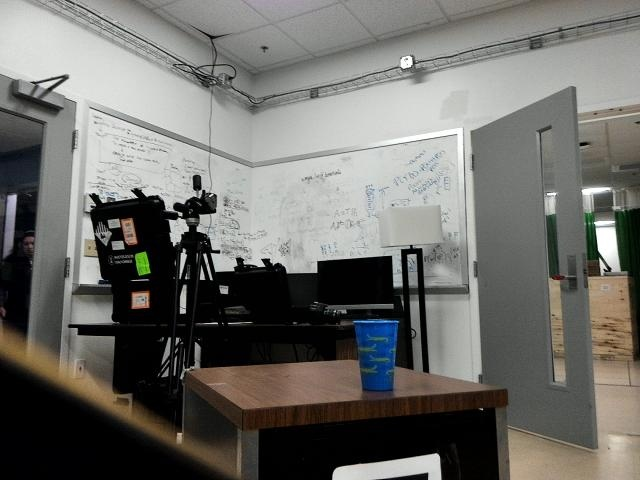water_cup: (352, 318, 402, 399)
